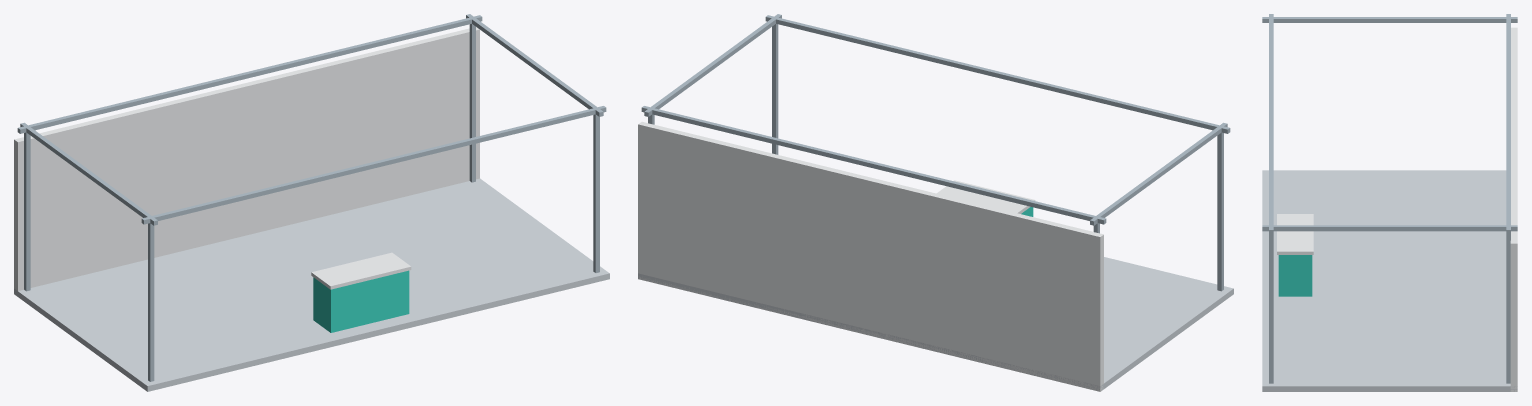
3 renders of one model, left to right at view 1: azimuth 30°, elevation 25°; view 2: azimuth 150°, elevation 25°; view 3: azimuth 270°, elevation 25°, orthographic. The views are drawn at different scales.
Parts seen in each view (by area): view 1: Exhibition Booth Concept; view 2: Exhibition Booth Concept; view 3: Exhibition Booth Concept.
Part boxes in pixels (box(x1,y1,x2,y2)): Exhibition Booth Concept: box(14, 14, 609, 391); Exhibition Booth Concept: box(638, 14, 1233, 391); Exhibition Booth Concept: box(1262, 14, 1517, 391).
Size of the model in its own units: 10 by 3.49 by 5.
